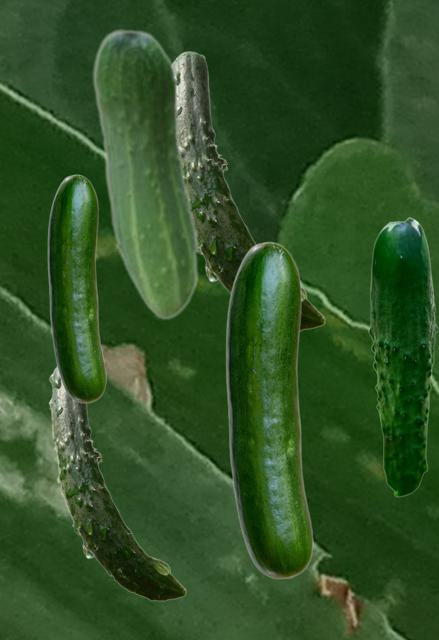cucumber: (173, 51, 324, 330), (48, 367, 185, 600), (92, 27, 199, 319), (225, 241, 312, 578), (368, 217, 437, 496), (47, 174, 105, 402)
